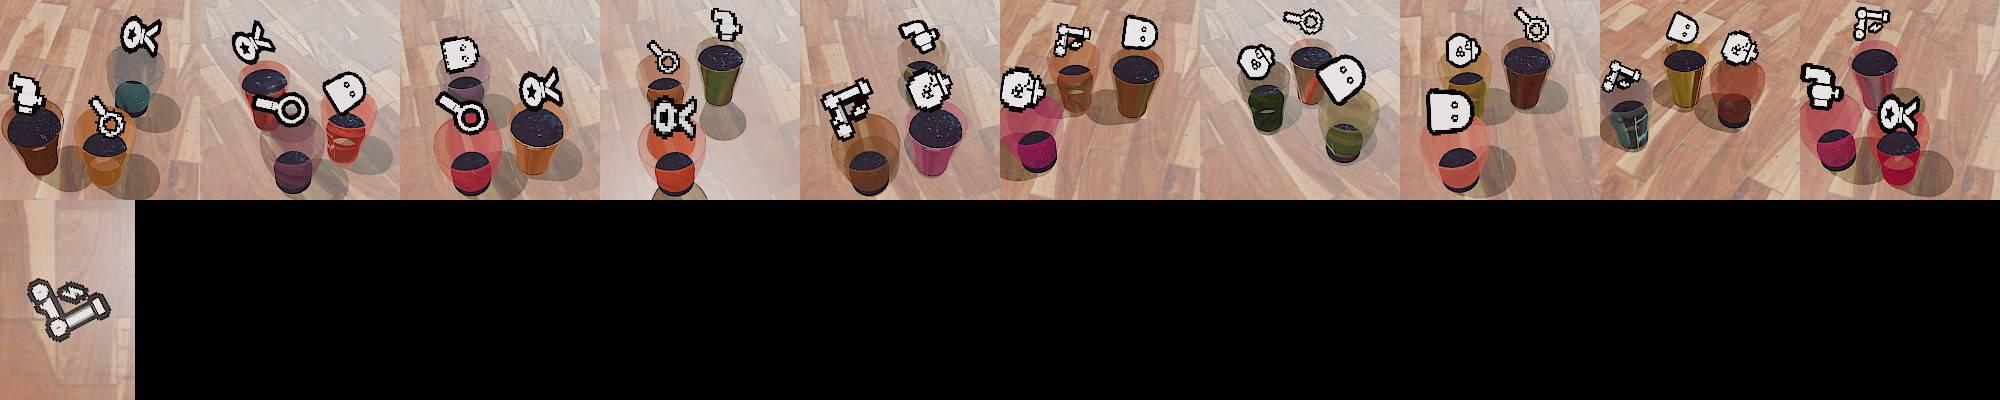icon: (24, 278, 111, 343), (819, 76, 875, 141), (1315, 54, 1367, 106), (434, 88, 488, 135), (1425, 87, 1475, 136), (650, 94, 700, 140), (252, 90, 309, 129), (1800, 61, 1845, 110), (1000, 66, 1047, 112), (906, 66, 954, 111), (518, 65, 564, 111), (321, 70, 368, 115), (231, 19, 276, 64), (120, 14, 162, 57), (1878, 94, 1921, 135), (439, 34, 481, 75), (88, 95, 127, 139), (8, 71, 46, 115), (898, 19, 940, 55), (1719, 29, 1759, 66), (1052, 21, 1093, 57), (1602, 59, 1644, 94), (1237, 42, 1275, 80), (1121, 14, 1159, 52), (1513, 6, 1551, 43), (1444, 32, 1482, 68), (647, 38, 682, 77), (1853, 6, 1893, 40), (1283, 6, 1325, 36), (709, 7, 743, 44), (1665, 10, 1700, 45)
